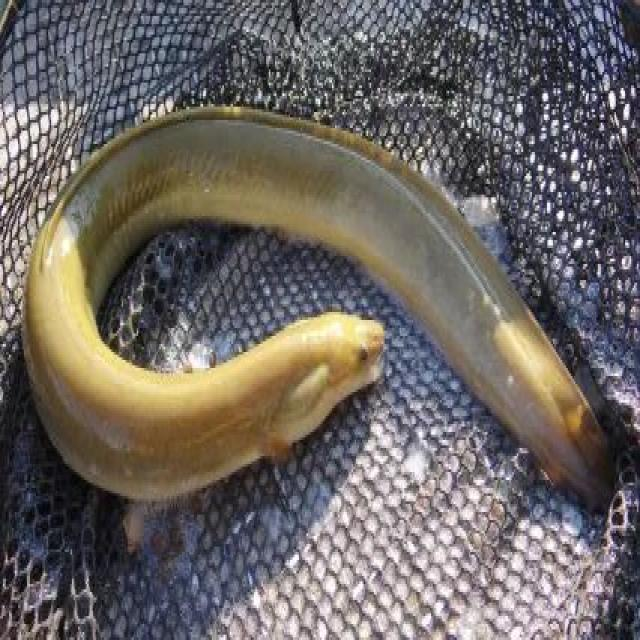Freshwater-Eel: (14, 71, 640, 556)
